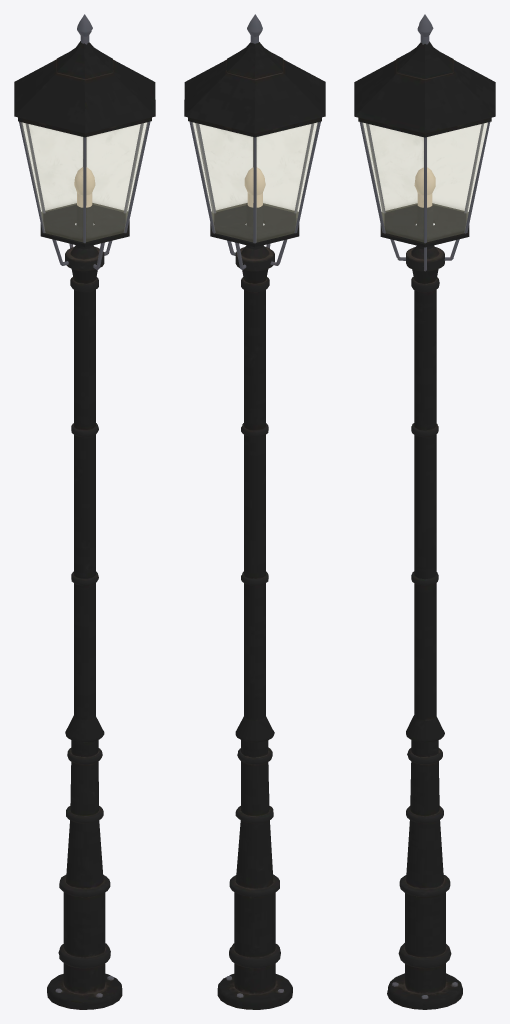
File: lamp-transformed.glb
3 views of the same model, side by side, from view 1: azimuth 30°, elevation 25°; view 2: azimuth 150°, elevation 25°; view 3: azimuth 270°, elevation 25° (orthographic).
Visible parts, largest first — view 1: defaultMaterial; view 2: defaultMaterial; view 3: defaultMaterial.
Part boxes in pixels (bbox=[...]): defaultMaterial: bbox=[14, 14, 155, 1009]; defaultMaterial: bbox=[184, 14, 325, 1009]; defaultMaterial: bbox=[354, 14, 495, 1009].
Size of the model in its own units: 0.3011 by 2 by 0.262.
Materials: 1 (1 with a texture image).
